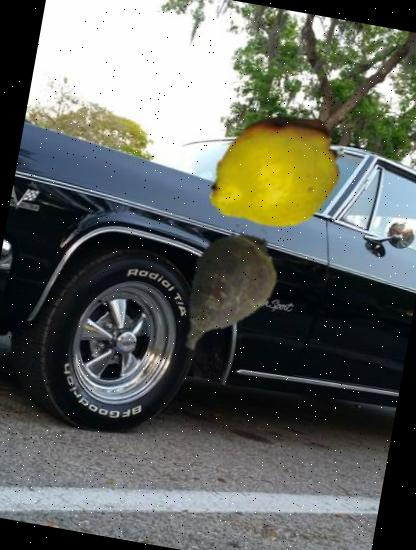Beetroot: (145, 206, 312, 373)
Quince: (194, 92, 358, 256)
